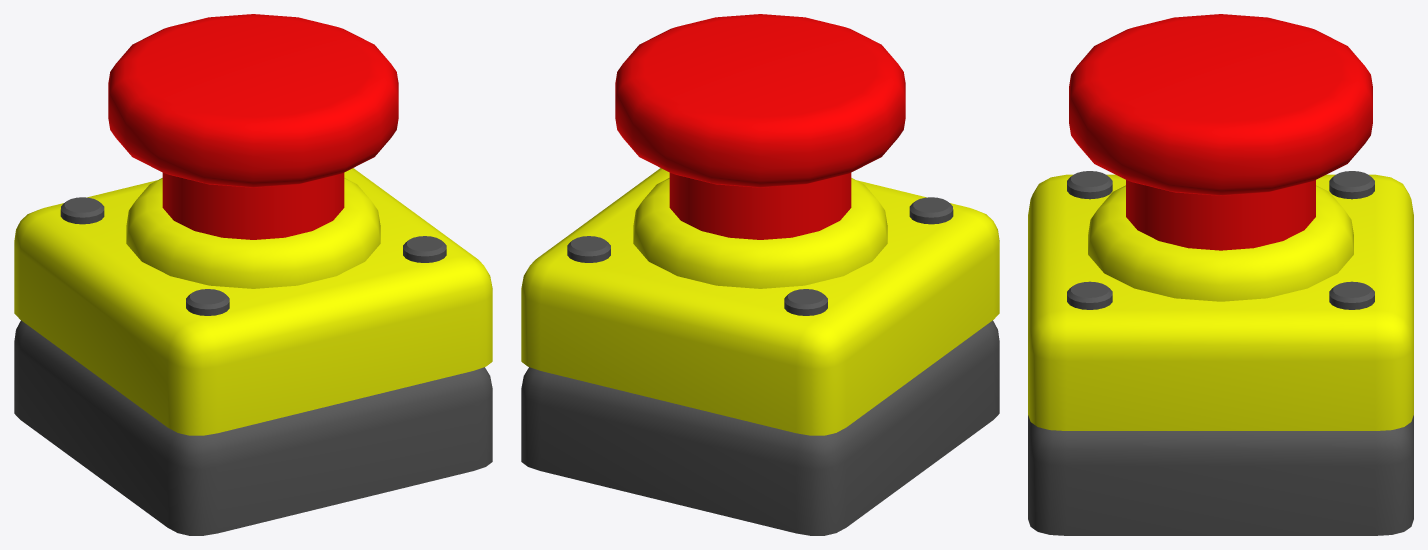
File: Button.fbx
3 views of the same model, side by side, from view 1: azimuth 30°, elevation 25°; view 2: azimuth 150°, elevation 25°; view 3: azimuth 270°, elevation 25° (orthographic). The views are drawn at different scales.
Visible parts, largest first — view 1: ButtonTop, ButtonBase, ButtonPress, Cylinder001, ButtonMid, Cylinder003, Cylinder002, Cylinder005; view 2: ButtonTop, ButtonBase, ButtonPress, Cylinder001, ButtonMid, Cylinder002, Cylinder003, Cylinder004; view 3: ButtonTop, ButtonPress, ButtonBase, Cylinder001, ButtonMid, Cylinder002, Cylinder003, Cylinder004, Cylinder005.
Part boxes in pixels (left/top/right/bottom): ButtonTop: left=14, top=168, right=492, bottom=435; ButtonBase: left=14, top=320, right=492, bottom=535; ButtonPress: left=108, top=14, right=398, bottom=187; Cylinder001: left=126, top=178, right=380, bottom=288; ButtonMid: left=162, top=173, right=344, bottom=239; Cylinder003: left=60, top=197, right=104, bottom=224; Cylinder002: left=186, top=289, right=229, bottom=315; Cylinder005: left=403, top=236, right=446, bottom=262; ButtonTop: left=521, top=168, right=999, bottom=435; ButtonBase: left=521, top=320, right=999, bottom=535; ButtonPress: left=615, top=14, right=905, bottom=187; Cylinder001: left=633, top=178, right=887, bottom=288; ButtonMid: left=669, top=173, right=851, bottom=239; Cylinder002: left=909, top=197, right=953, bottom=224; Cylinder003: left=784, top=289, right=827, bottom=315; Cylinder004: left=567, top=236, right=610, bottom=262; ButtonTop: left=1028, top=174, right=1413, bottom=430; ButtonPress: left=1069, top=14, right=1372, bottom=195; ButtonBase: left=1028, top=415, right=1413, bottom=535; Cylinder001: left=1088, top=185, right=1353, bottom=301; ButtonMid: left=1126, top=180, right=1315, bottom=250; Cylinder002: left=1067, top=171, right=1112, bottom=199; Cylinder003: left=1329, top=171, right=1374, bottom=199; Cylinder004: left=1329, top=281, right=1374, bottom=309; Cylinder005: left=1067, top=281, right=1112, bottom=309.
Bounding box in the file's own units: 19.69 × 21.65 × 19.69.
